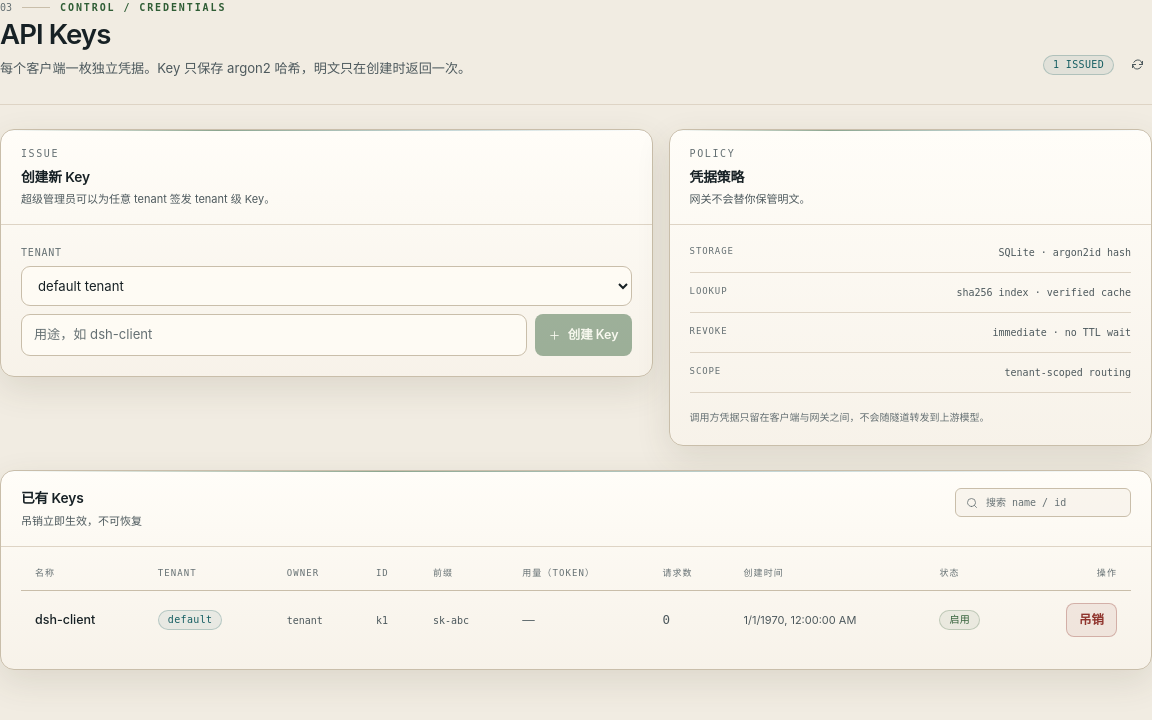
Test: Keys 页的吊销失败提示（P3-18②） › deleteKey 失败时显示『吊销失败：…（这条 Key 仍然有效）』
Click the button "吊销".
click(1092, 620)  # box [1066,604,1117,638]
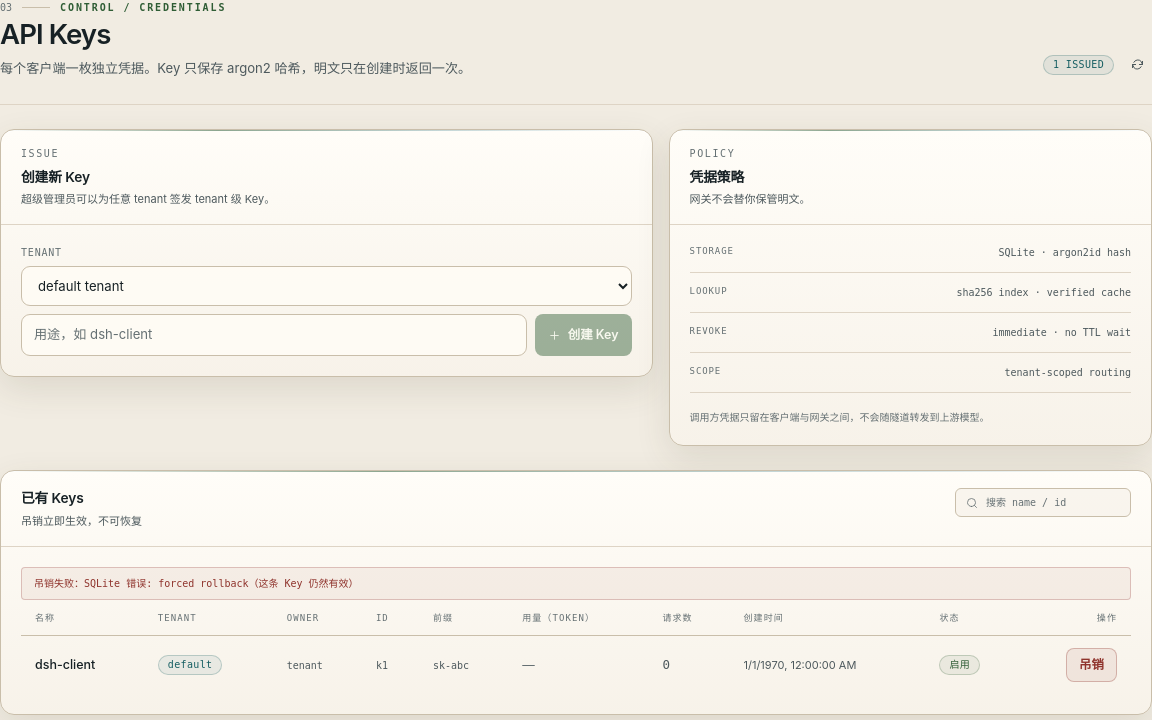
Expected: the text "吊销失败：SQLite 错误: forced rollback（这条 Key 仍然有效）" is shown, [21,567,1131,600]
